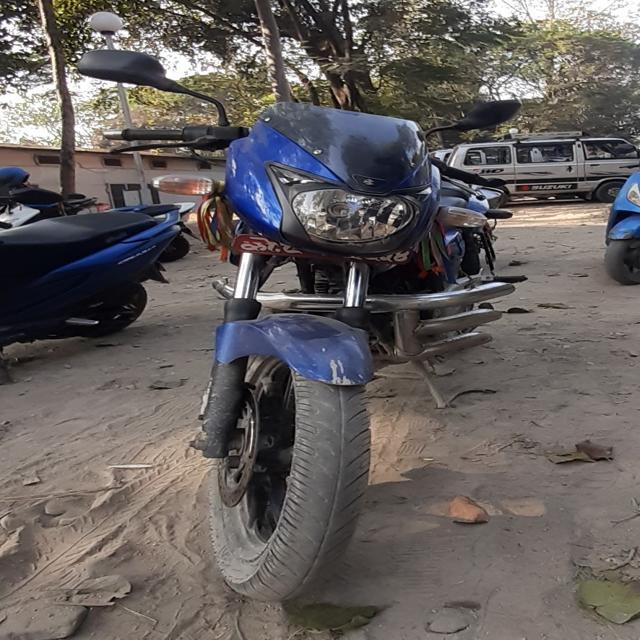license_plate: (168, 218, 464, 274)
